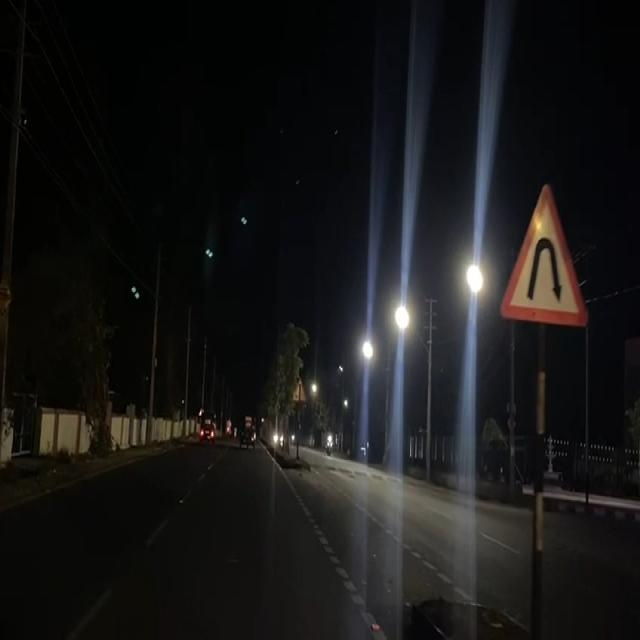bien_nguy_hiem: (498, 178, 593, 332)
